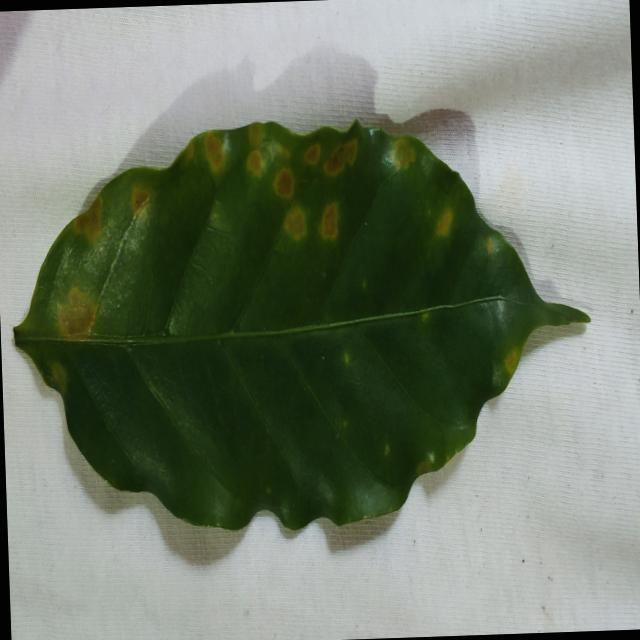KaratDaunKopi: (58, 286, 96, 334), (72, 195, 101, 241), (324, 138, 356, 176), (283, 204, 306, 240), (205, 132, 223, 174), (319, 202, 338, 240), (394, 137, 415, 168), (273, 167, 293, 198), (130, 185, 151, 212), (49, 360, 66, 393), (503, 346, 521, 376), (246, 149, 263, 177), (436, 209, 452, 236), (247, 122, 262, 148), (303, 143, 320, 164), (416, 454, 433, 474), (182, 141, 193, 159), (485, 236, 492, 253), (422, 312, 430, 323), (384, 443, 390, 456), (343, 351, 349, 364)
